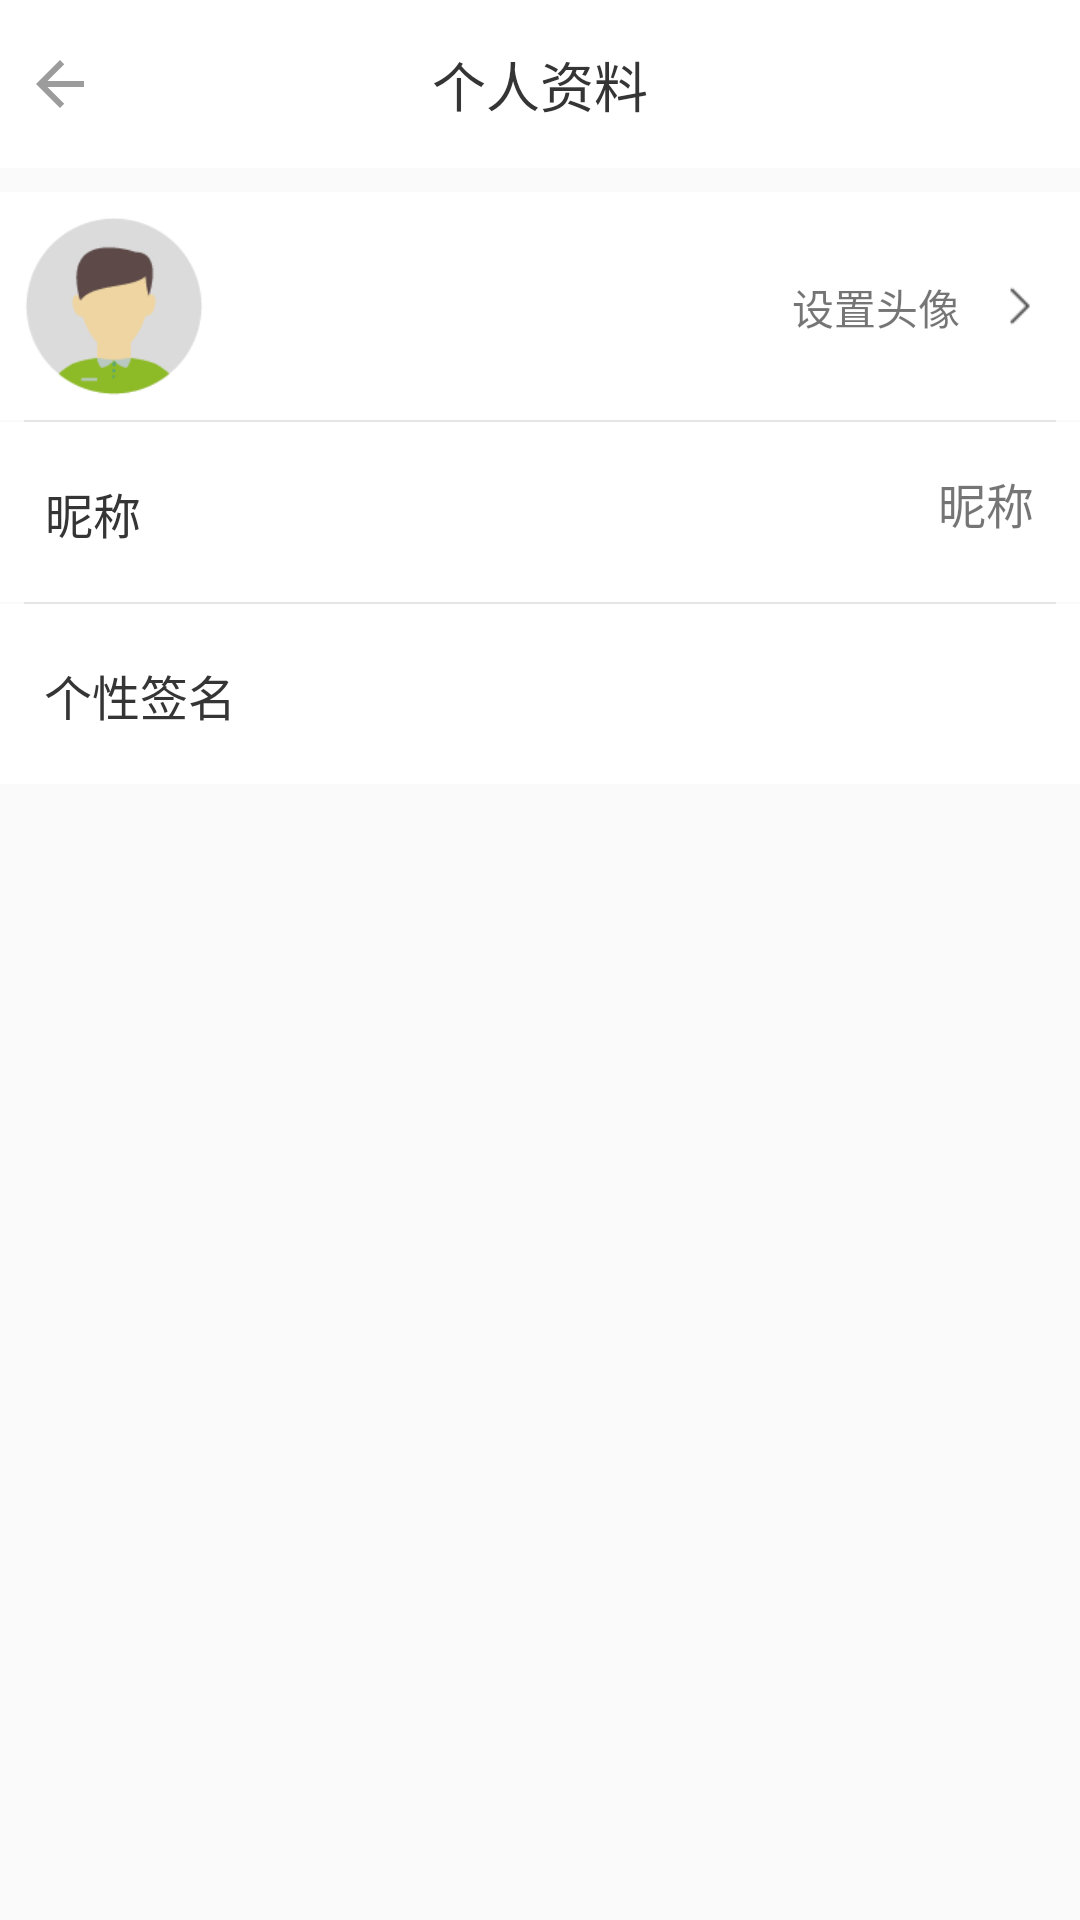

Screen size 1080x1920. Icon name, then its box in pixels as bbox=[x1, y1, x2, y2]:
arrow back: bbox=[36, 60, 84, 108]
user head: bbox=[27, 219, 201, 395]
